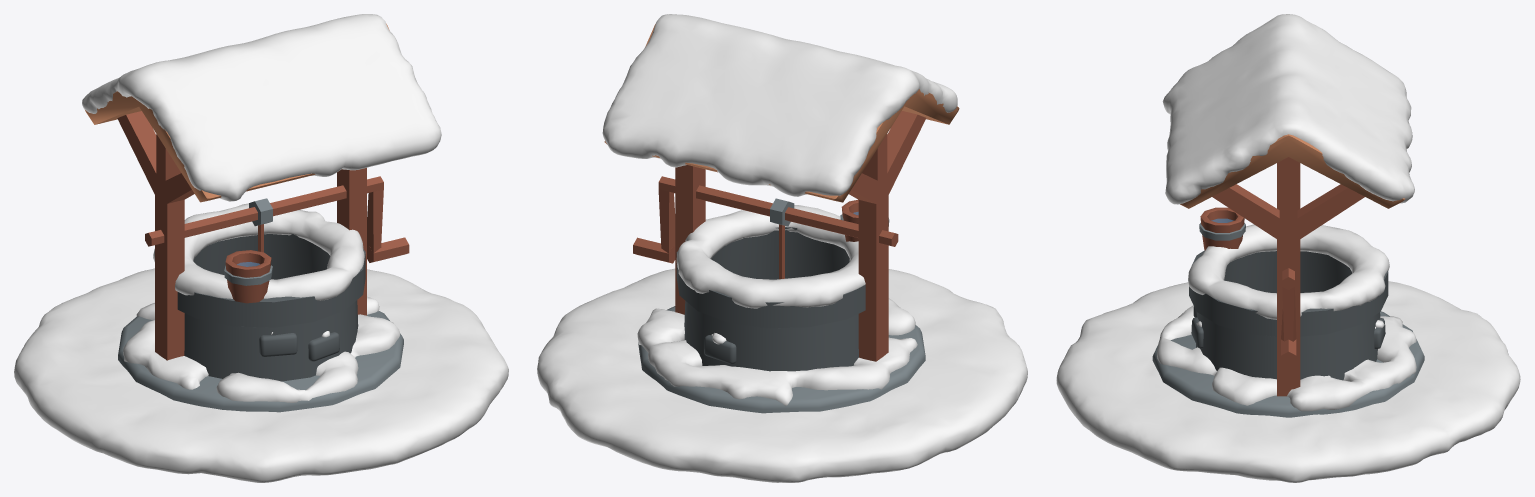
Rendered from snow_well.fbx.
3 views of the same model, side by side, from view 1: azimuth 30°, elevation 25°; view 2: azimuth 150°, elevation 25°; view 3: azimuth 270°, elevation 25° (orthographic). The views are drawn at different scales.
Parts seen in each view (by area): view 1: SnowBall.514, SnowBall.513, well, SnowBall.511, SnowBall.512, well.003, well.001, well.004, well.007, well.006, well.002, well.020 (+1 smaller); view 2: SnowBall.514, SnowBall.513, well, SnowBall.512, SnowBall.511, well.003, well.001, well.004, well.002, well.006, well.021; view 3: SnowBall.514, SnowBall.513, well, SnowBall.512, SnowBall.511, well.002, well.001, well.006, well.007, well.004.
Boxes of the visible parts, x1,y1,x2,y2 form: SnowBall.514: [14, 268, 508, 482]; SnowBall.513: [82, 14, 441, 201]; well: [177, 234, 365, 381]; SnowBall.511: [153, 203, 364, 300]; SnowBall.512: [123, 296, 400, 402]; well.003: [117, 111, 194, 360]; well.001: [118, 311, 403, 412]; well.004: [145, 176, 409, 262]; well.007: [224, 250, 272, 303]; well.006: [85, 23, 389, 202]; well.002: [337, 168, 366, 315]; well.020: [259, 333, 297, 356]; SnowBall.514: [537, 268, 1027, 482]; SnowBall.513: [602, 14, 957, 196]; well: [676, 227, 865, 371]; SnowBall.512: [637, 298, 917, 405]; SnowBall.511: [676, 205, 865, 308]; well.003: [849, 111, 926, 361]; well.001: [638, 306, 925, 413]; well.004: [633, 176, 898, 263]; well.002: [675, 165, 705, 314]; well.006: [604, 24, 959, 202]; well.021: [704, 335, 736, 363]; SnowBall.514: [1056, 281, 1520, 482]; SnowBall.513: [1162, 14, 1414, 204]; well: [1189, 250, 1388, 380]; SnowBall.512: [1157, 305, 1416, 411]; SnowBall.511: [1188, 224, 1389, 319]; well.002: [1212, 157, 1364, 396]; well.001: [1152, 311, 1424, 417]; well.006: [1180, 134, 1404, 208]; well.007: [1199, 207, 1245, 250]; well.004: [1281, 268, 1296, 367].
Size of the model in its own units: 103 by 79.37 by 103.
